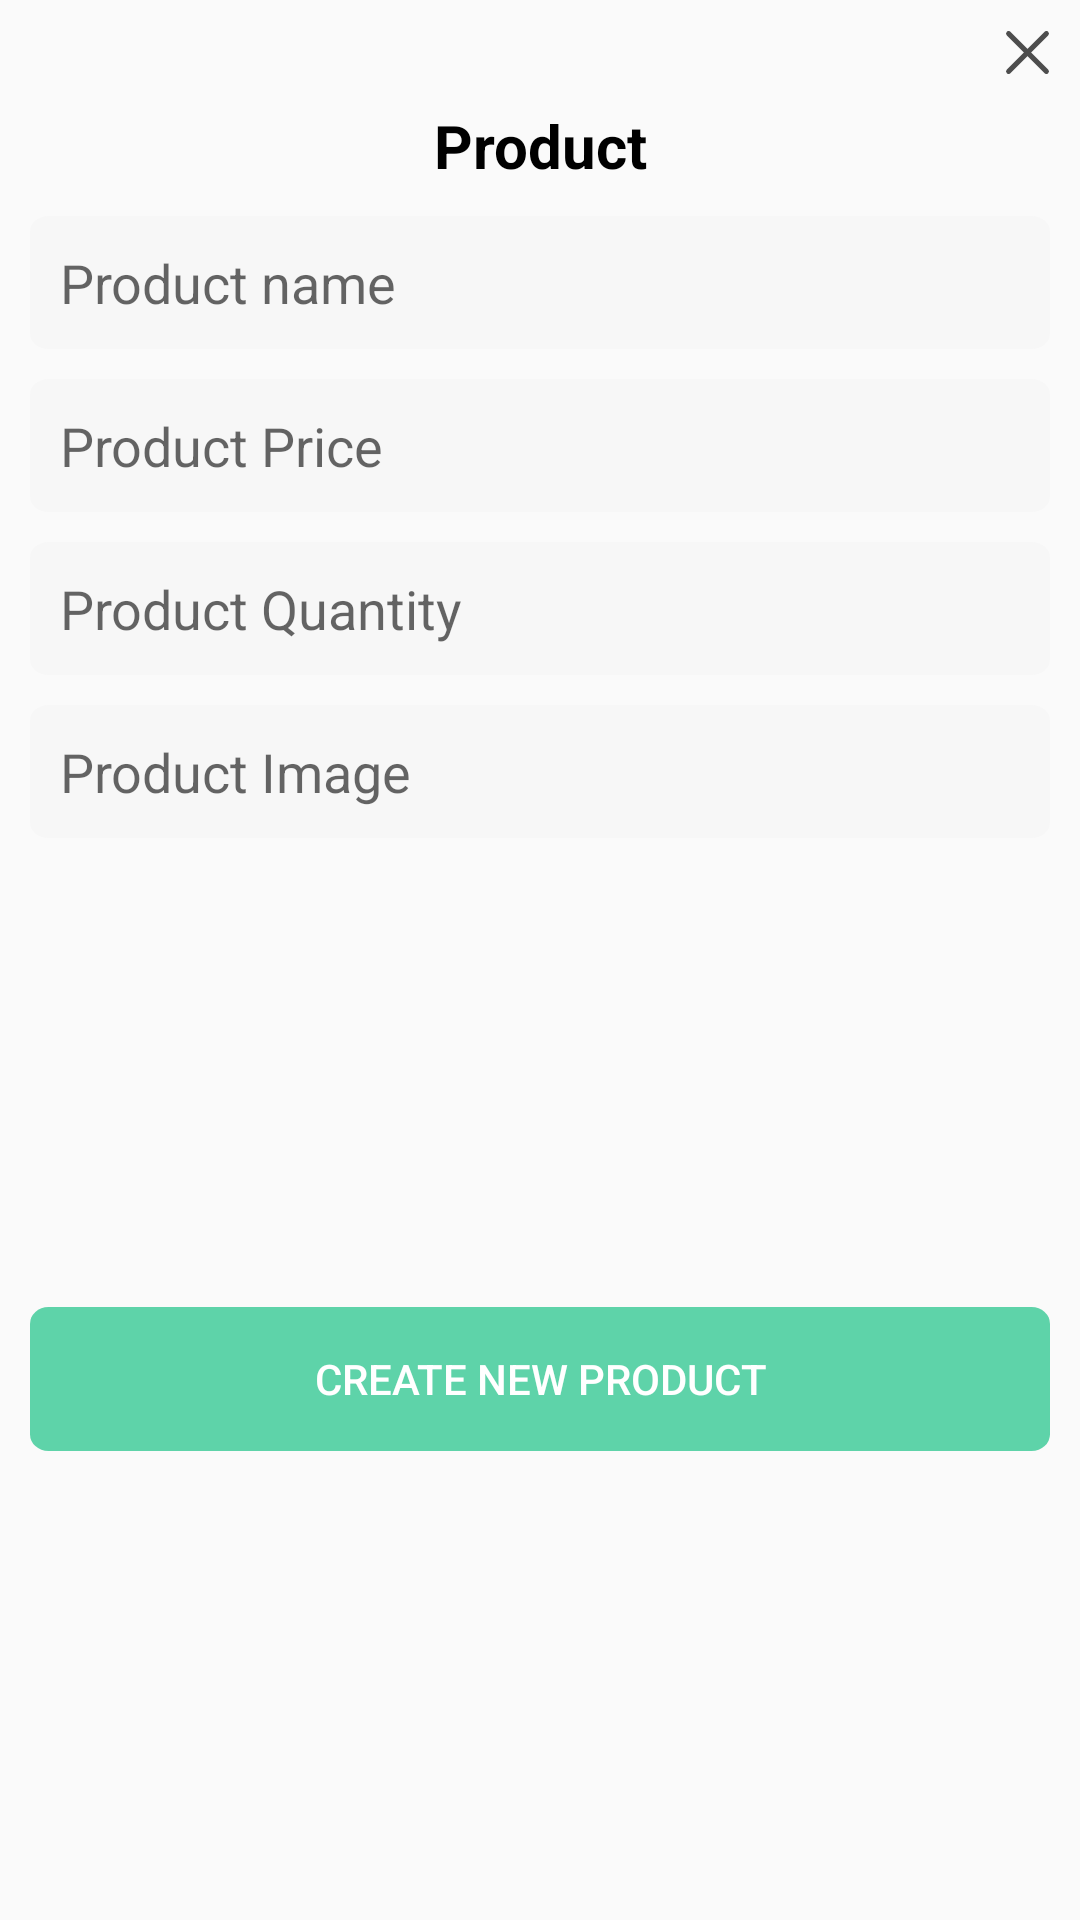

Where icons sit on this 1080 x 1920 app screen, as [x1=x1, y1=y1, x2=x2, y2=y2]:
close: [x1=1006, y1=31, x2=1049, y2=74]
